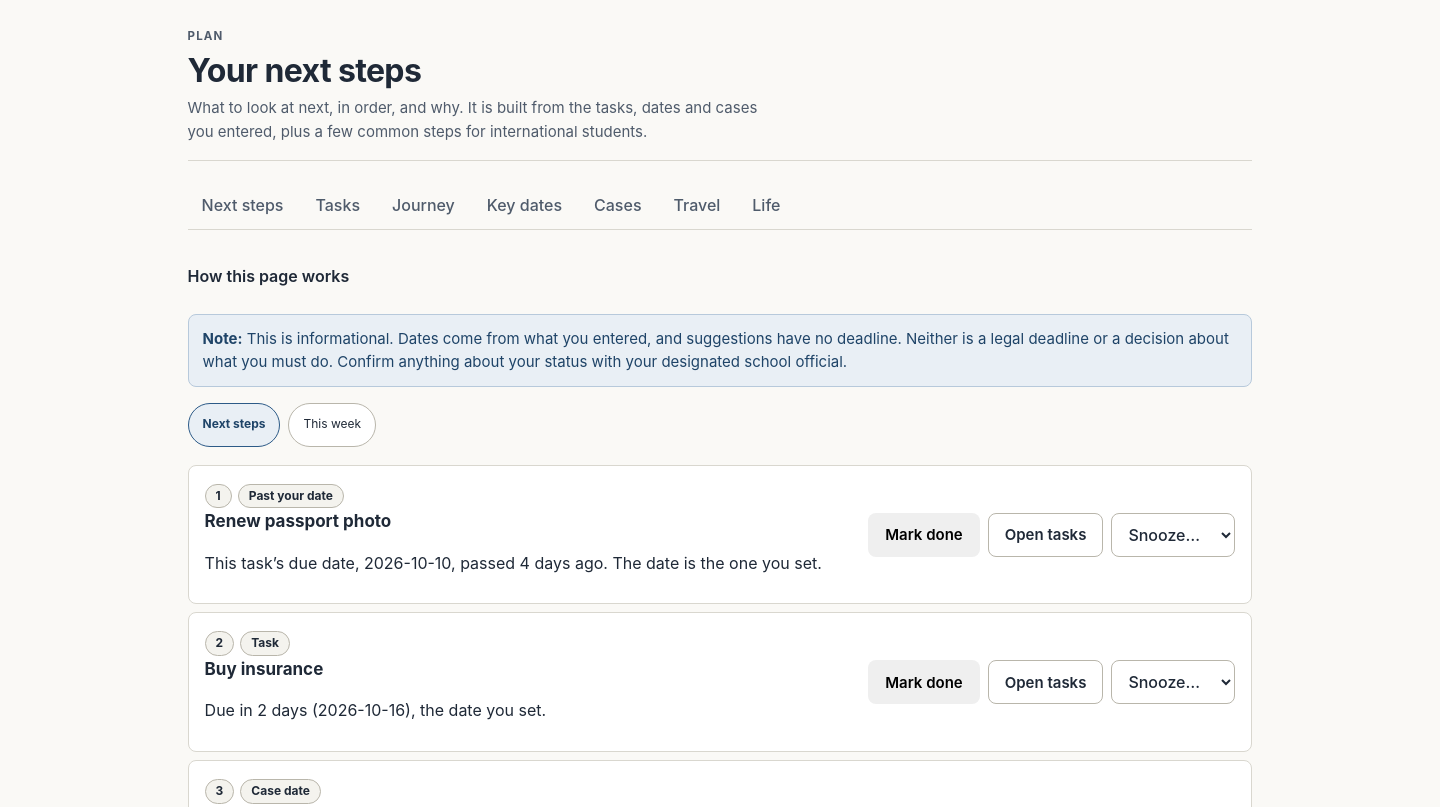
Test: NextStepsPage › marks a task done with one tap and reports it
Click the button with aria-label "Mark done: Renew passport photo".
click(924, 535)  # box 868,513 -> 980,557
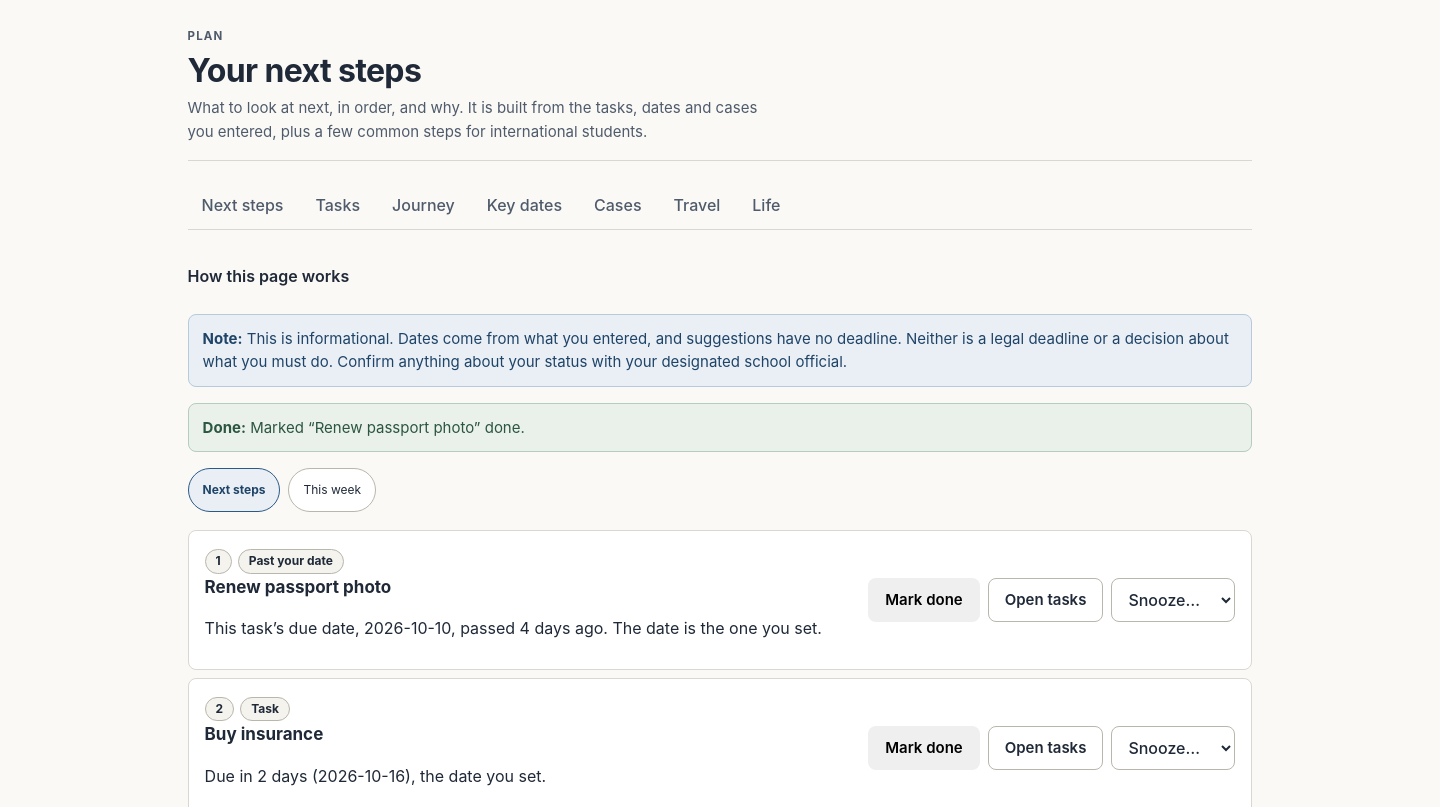
Expected: the text "Done: Marked “Renew passport photo” done." is shown, 203,416 -> 525,439
